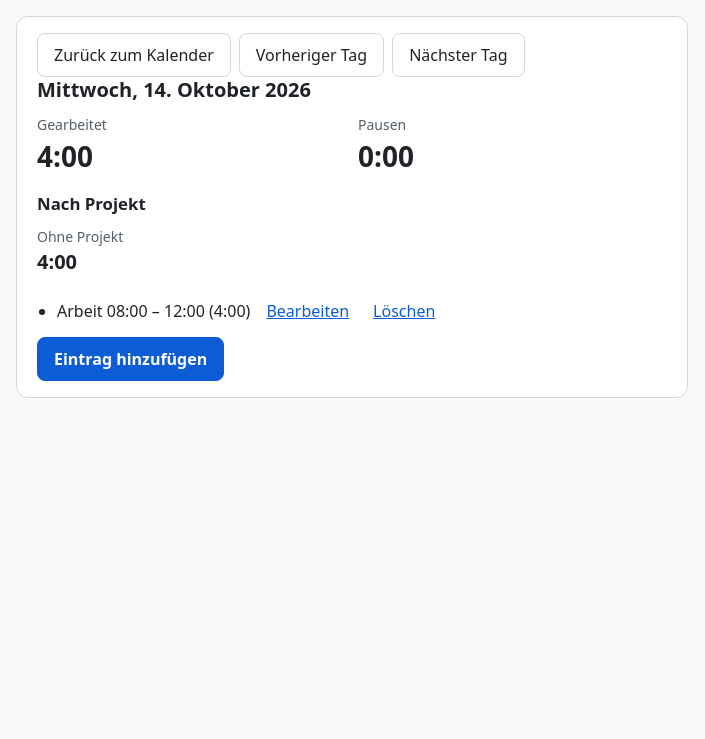
Test: DayDetailView › edits the end of an entry and updates the list line
The width and height of the screenshot is (705, 739).
Click the button "Bearbeiten" at (308, 311), box x1=258 y1=293 x2=357 y2=329
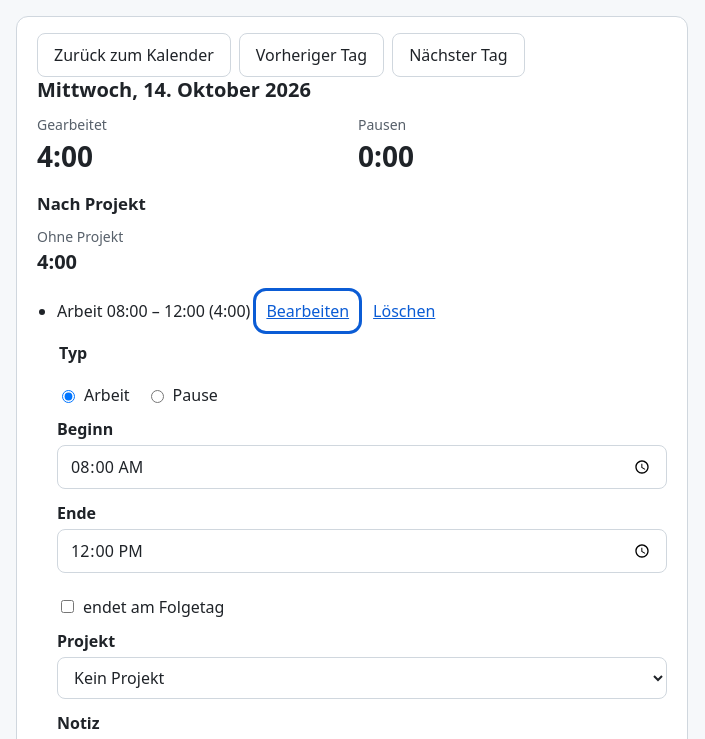
Replace the text in the time field labelled "Ende" with "13:00" at (362, 551), box x1=57 y1=529 x2=667 y2=573
(page scrolled)
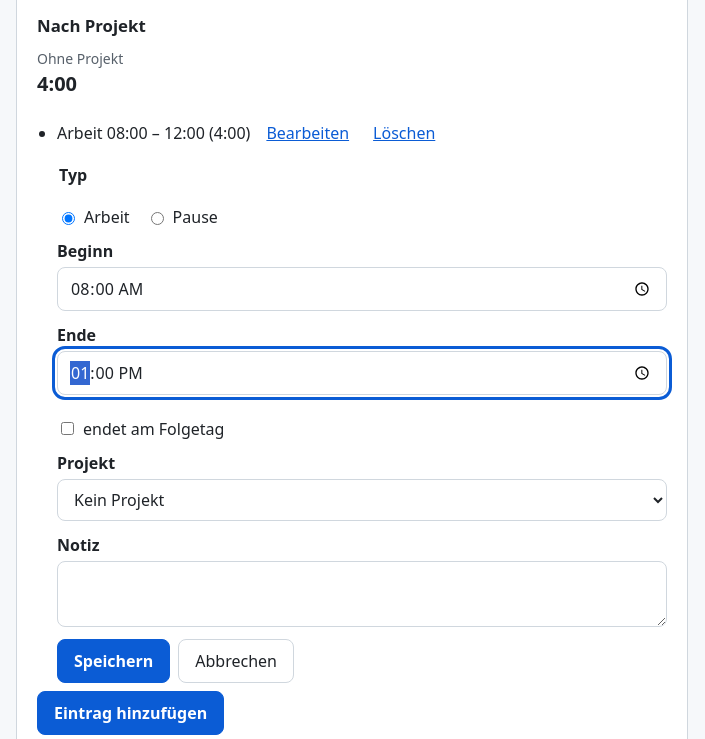
Click the button "Speichern" at (114, 661), box x1=57 y1=639 x2=170 y2=683
(page scrolled)
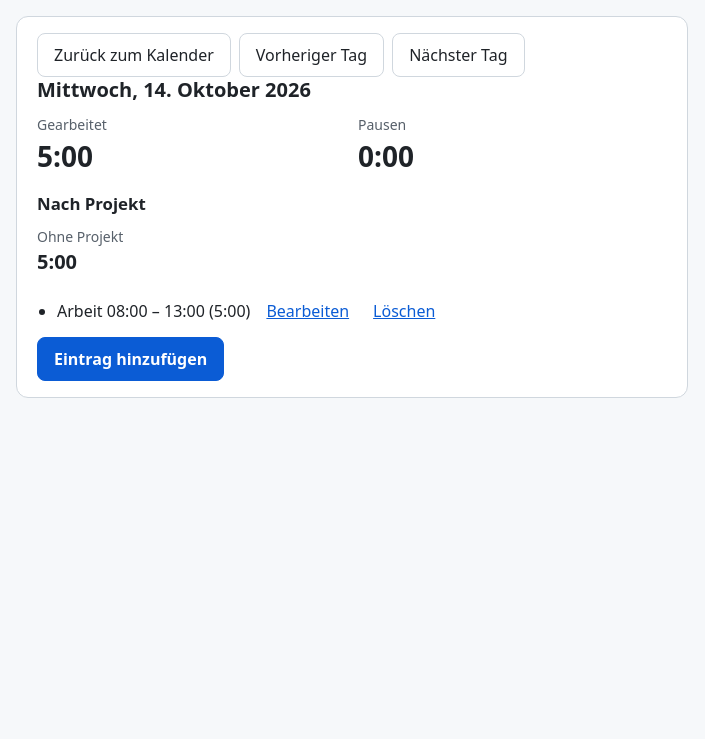
Now the text "Arbeit 08:00 – 13:00 (5:00)" is shown, box x1=57 y1=300 x2=250 y2=322
Now the text "5:00" below "Gearbeitet" is shown, box x1=37 y1=137 x2=93 y2=175
